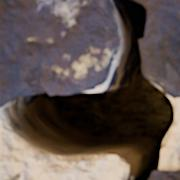broken_brick: (0, 0, 118, 105), (140, 0, 179, 98), (151, 169, 179, 179)
crack: (0, 0, 177, 179)
